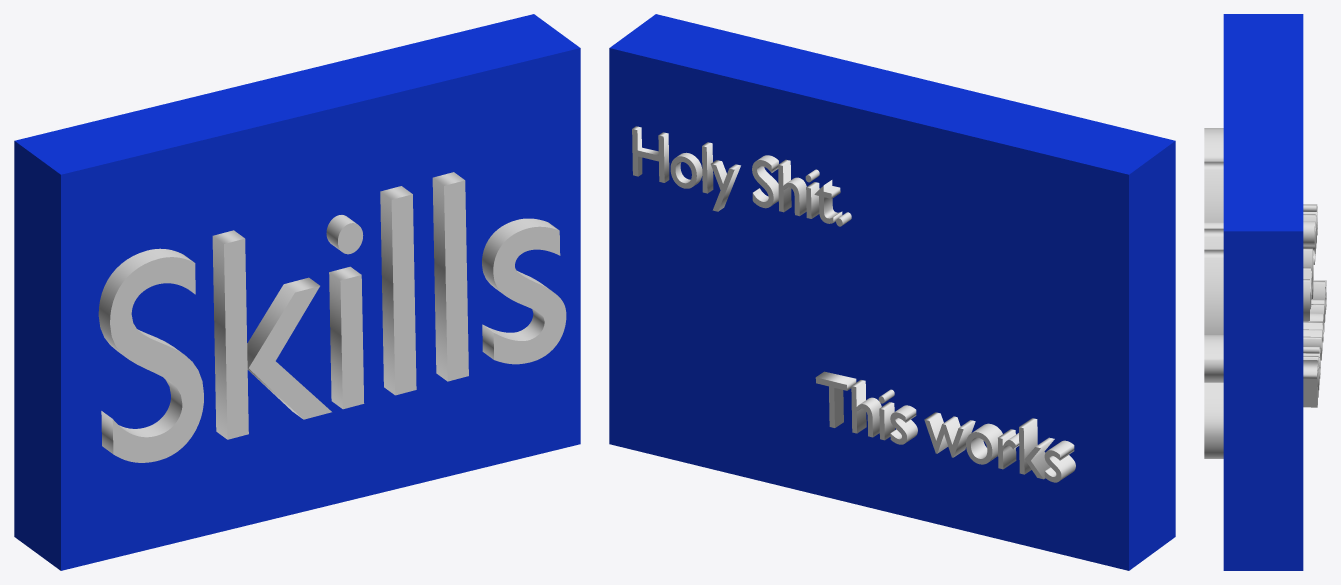
File: TestModel.glb
3 renders of one model, left to right at view 1: azimuth 30°, elevation 25°; view 2: azimuth 150°, elevation 25°; view 3: azimuth 270°, elevation 25°, orthographic. The views are drawn at different scales.
Parts seen in each view (by area): view 1: Cube, Text; view 2: Cube, Text.001; view 3: Cube, Text, Text.001.
Part boxes in pixels (left/top/right/bottom): Cube: left=14, top=14, right=580, bottom=570; Text: left=98, top=172, right=566, bottom=462; Cube: left=609, top=14, right=1175, bottom=570; Text.001: left=632, top=126, right=1075, bottom=482; Cube: left=1223, top=14, right=1303, bottom=570; Text: left=1204, top=128, right=1223, bottom=458; Text.001: left=1303, top=204, right=1326, bottom=407.
Bounding box in the file's own units: 412 × 301 × 98.15.
